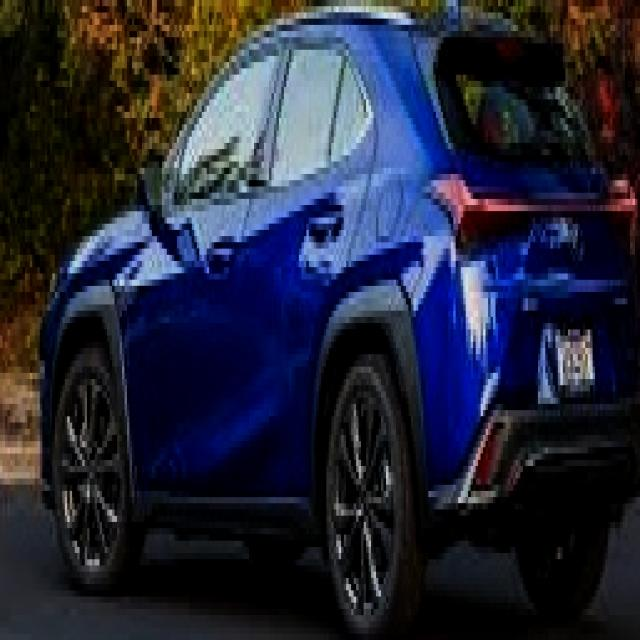blue: (37, 6, 640, 640)
